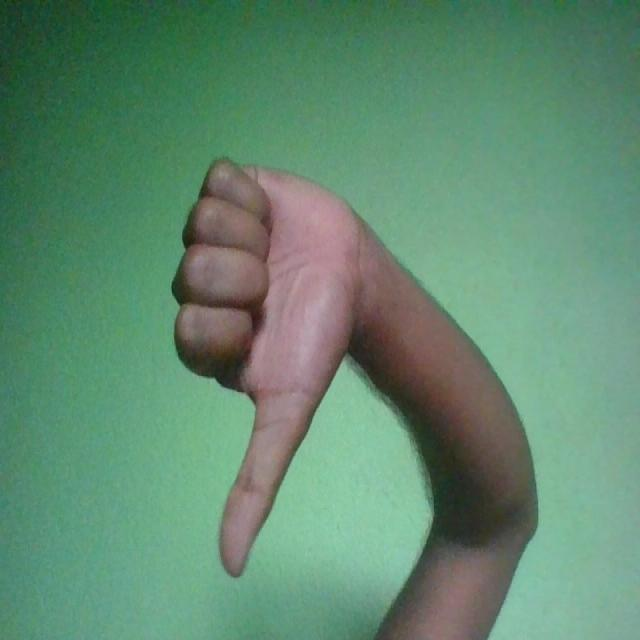Dislike: (170, 156, 372, 579)
